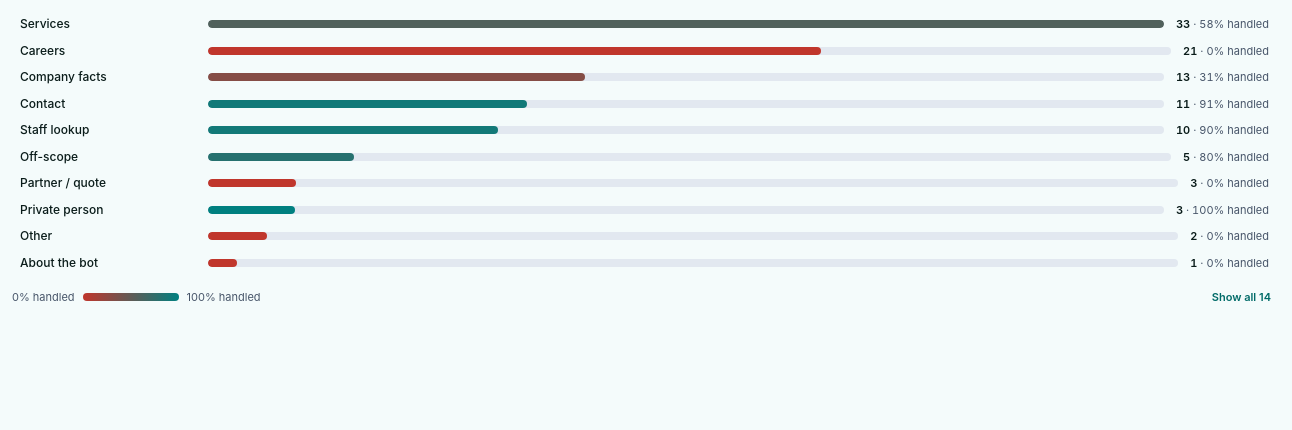
Test: TopicsBreakdown › shows the top 10, then every topic in place with Show all
Click the button "Show all 14".
click(1241, 297)  # box [1206,287,1277,308]
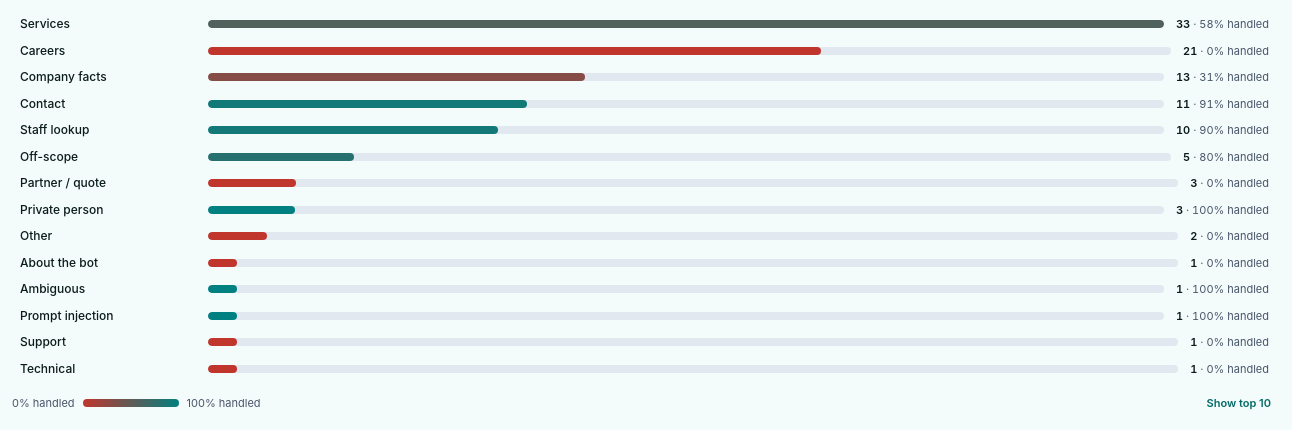
Result: the button "Show top 10" is expanded at [1200,393,1277,414]
